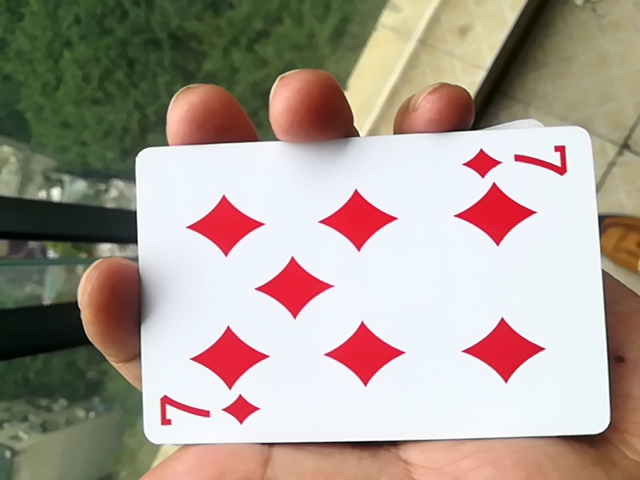fk 7: (122, 130, 607, 454)
